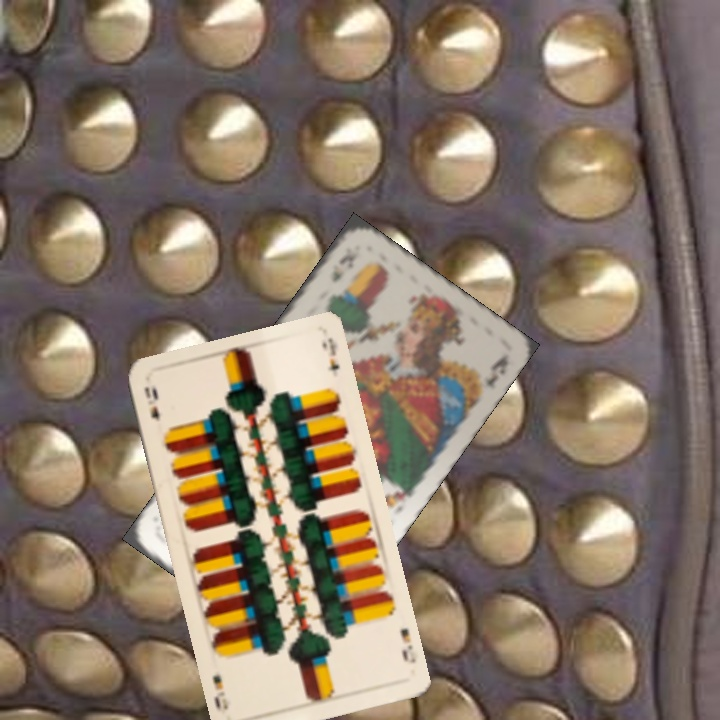E9: (396, 624, 419, 666), (140, 383, 162, 425)
EK: (328, 248, 359, 286)
